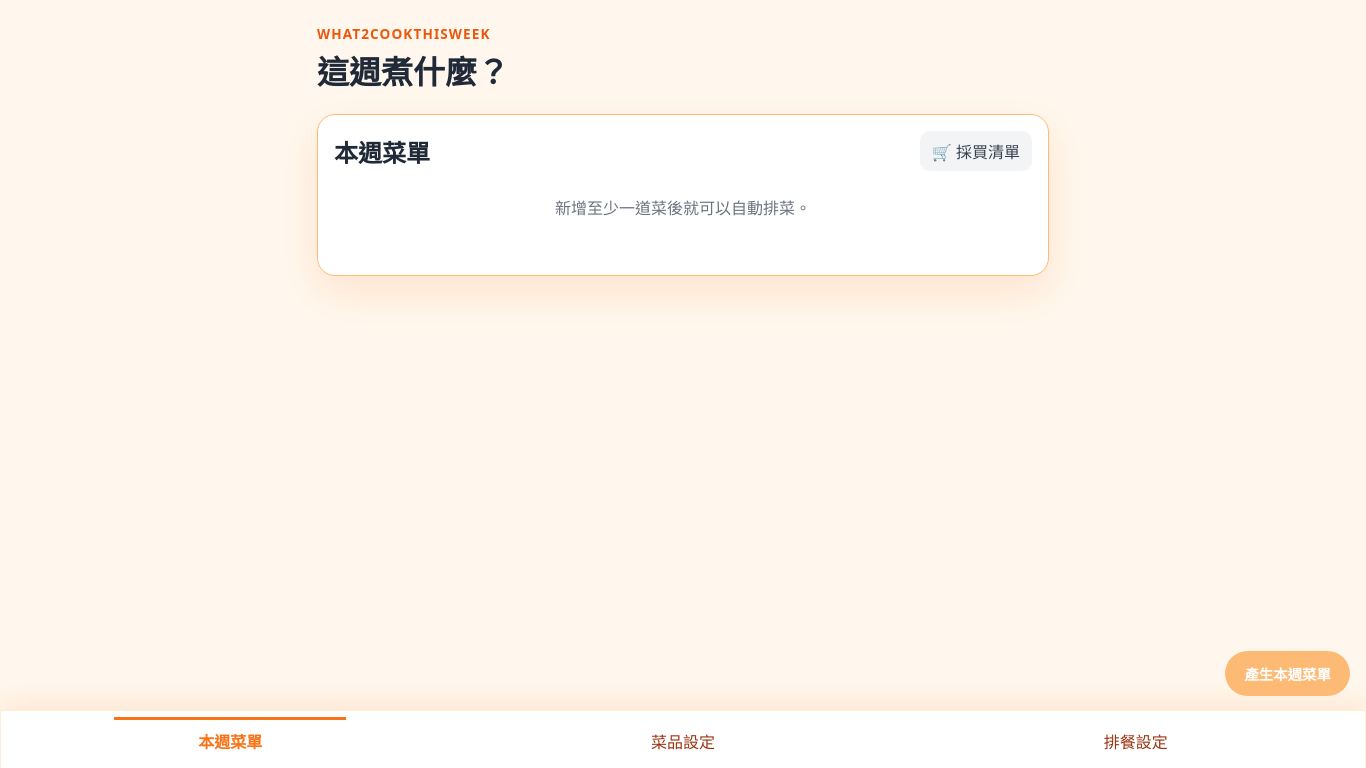
Test: App › adds a new dish from a modal with dinner and uncategorized defaults
Click the button "菜品設定" at x=683, y=740, box [459,717,907,762]
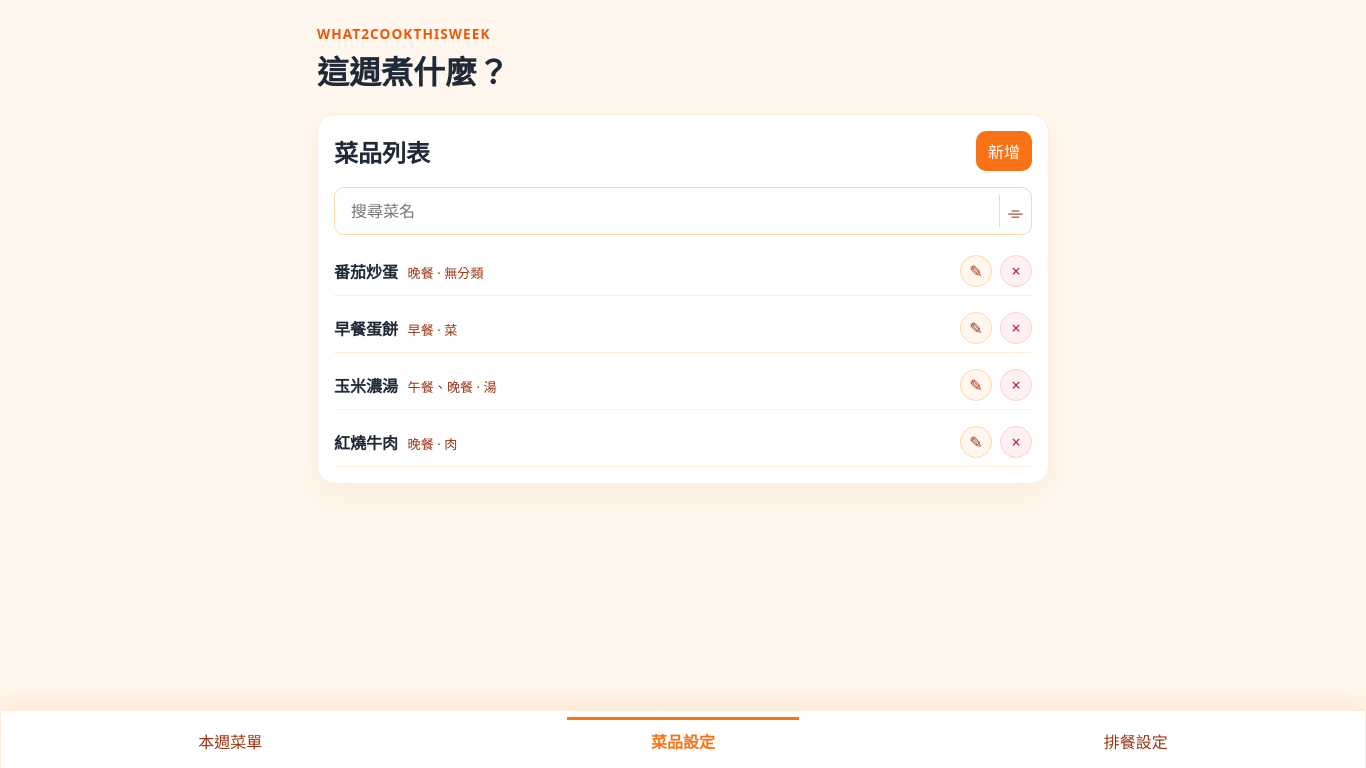
Click the button "新增" at x=1004, y=151, box [976,131,1032,171]
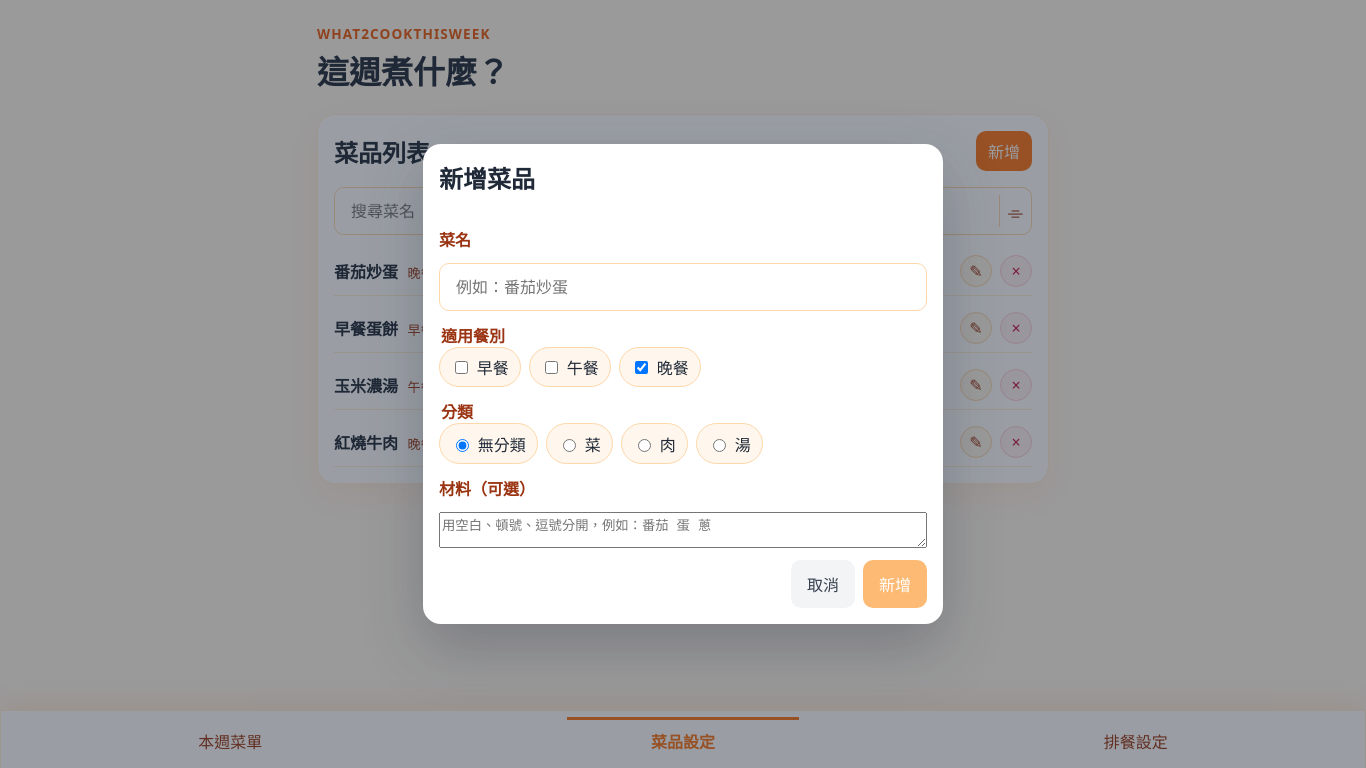
Type "香煎雞腿" into the field with placeholder "例如：番茄炒蛋" at x=683, y=287, box [439,263,927,311]
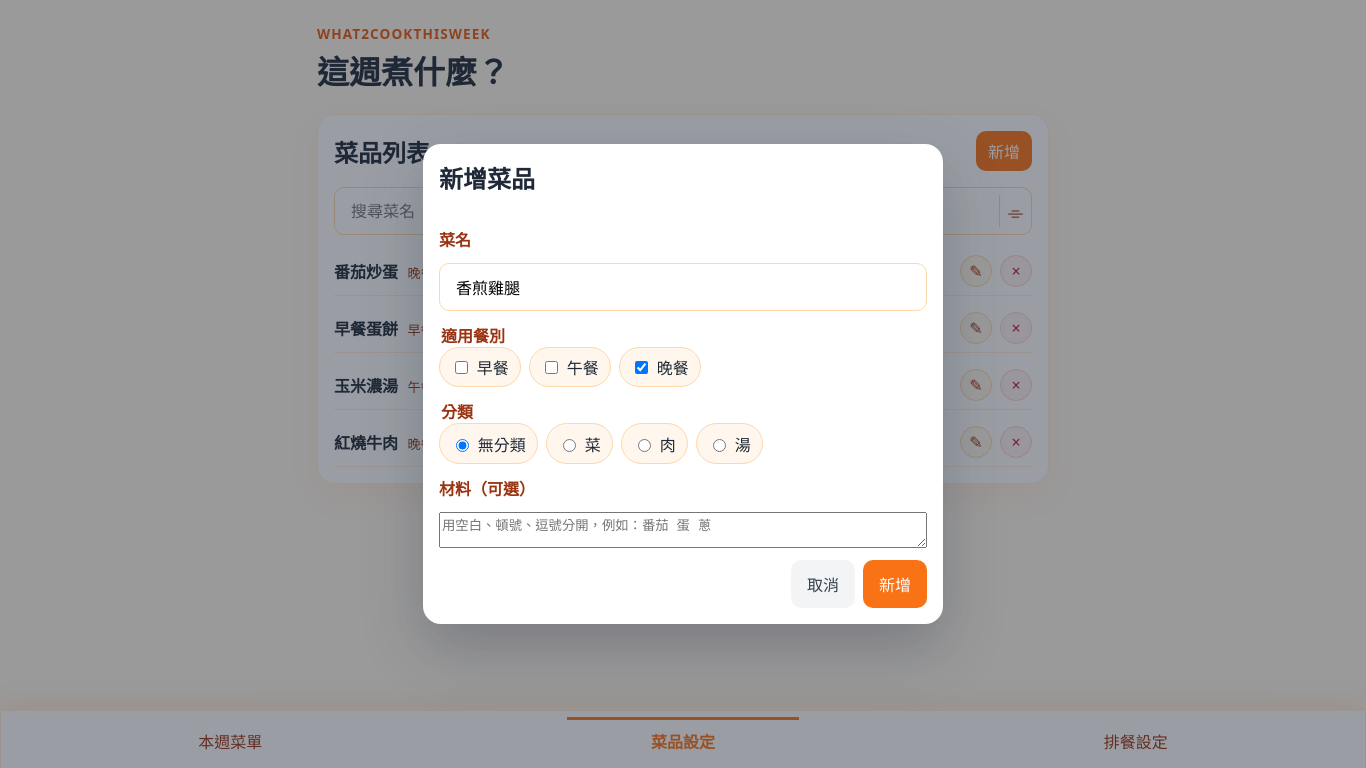
Click the button "新增" at x=895, y=584, box [863,560,927,608]
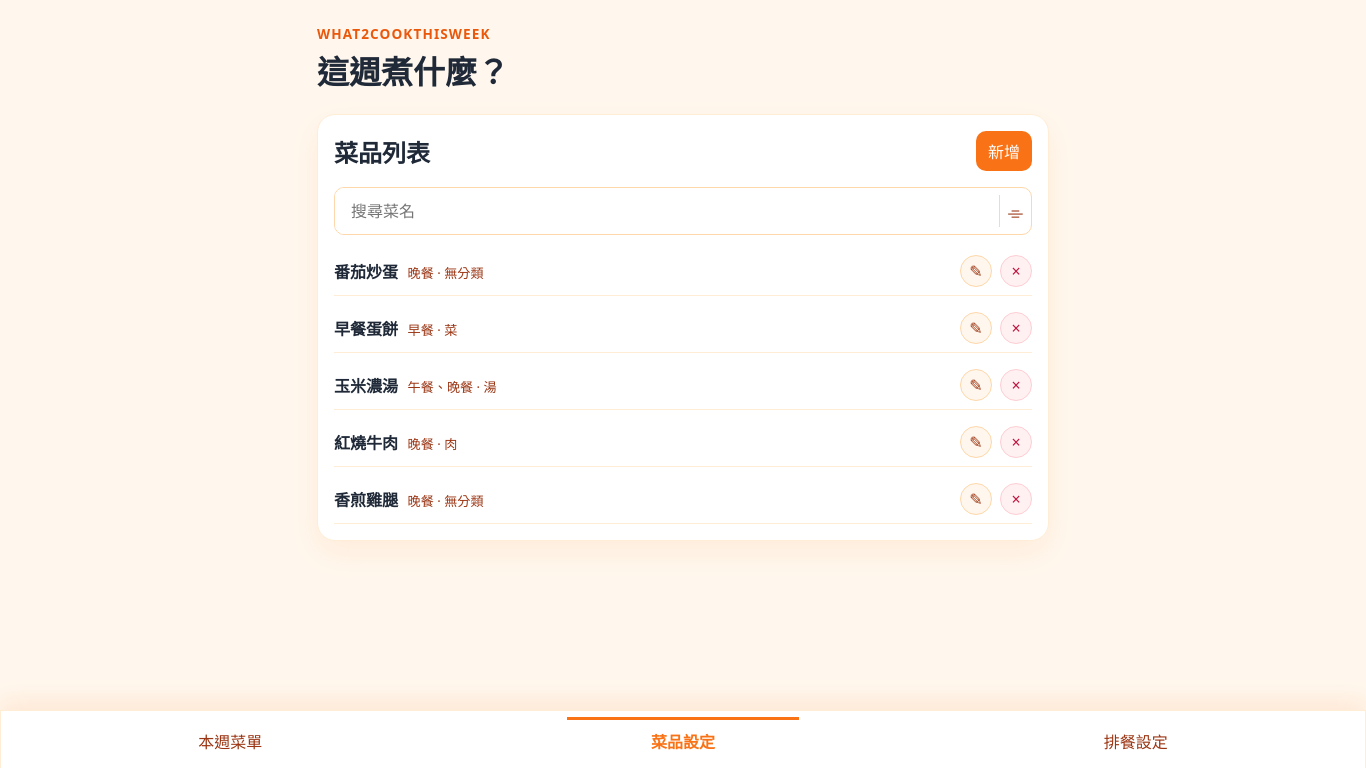
Expected: the heading "新增菜品" is gone
